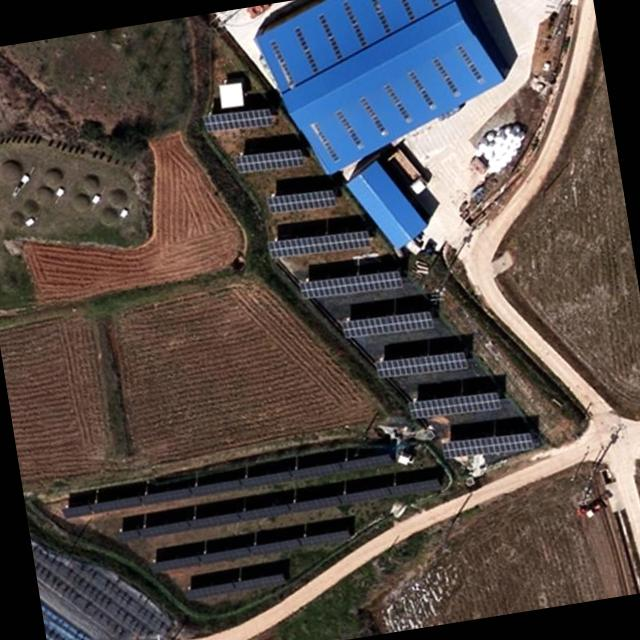solar: (296, 264, 408, 306), (404, 387, 508, 427), (435, 428, 541, 467), (372, 345, 472, 384), (338, 306, 438, 344), (266, 225, 373, 260), (266, 182, 340, 220), (201, 102, 274, 137), (232, 144, 306, 177), (338, 448, 396, 474), (181, 579, 239, 604), (298, 528, 354, 553), (199, 544, 252, 570), (248, 536, 305, 560), (290, 458, 342, 484), (240, 466, 292, 492), (146, 553, 202, 577), (138, 517, 193, 541), (187, 509, 243, 531), (189, 476, 245, 498), (388, 477, 443, 499), (90, 493, 144, 515), (138, 486, 192, 508), (288, 493, 342, 515), (339, 484, 390, 506), (239, 502, 292, 522), (236, 572, 286, 593), (59, 500, 92, 520), (115, 526, 142, 544)
